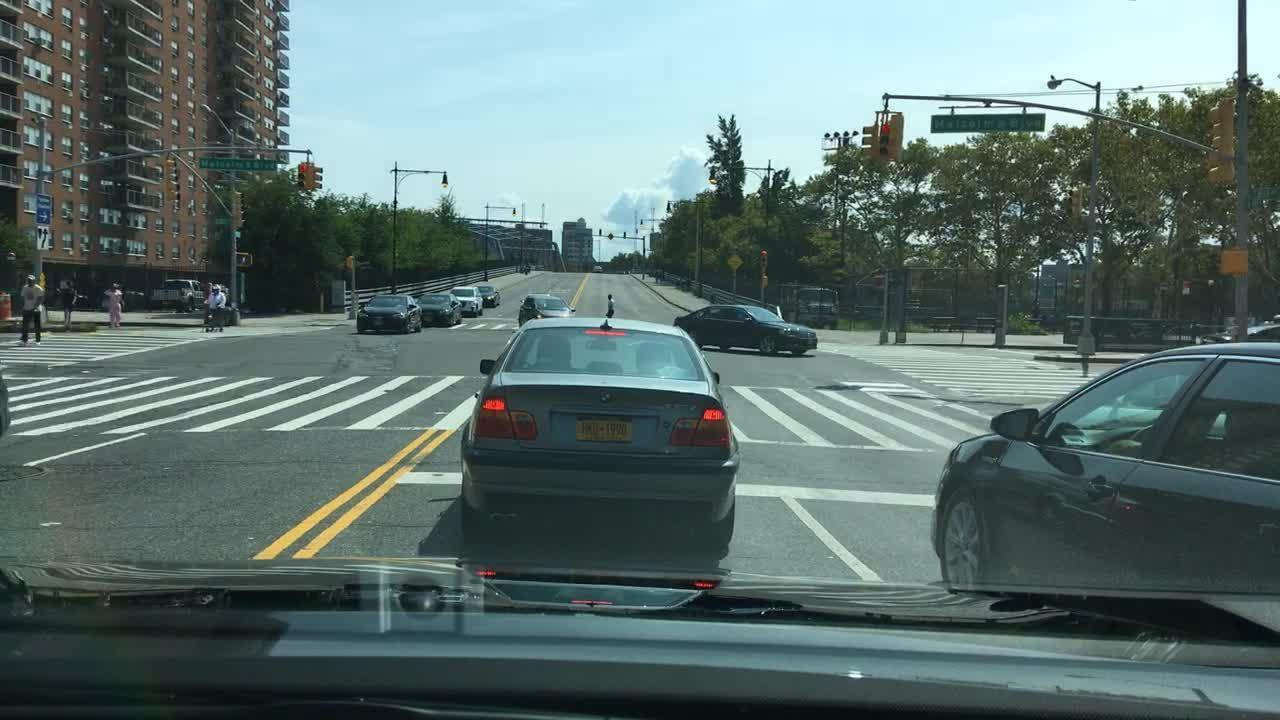bmw: (595, 391, 617, 405)
